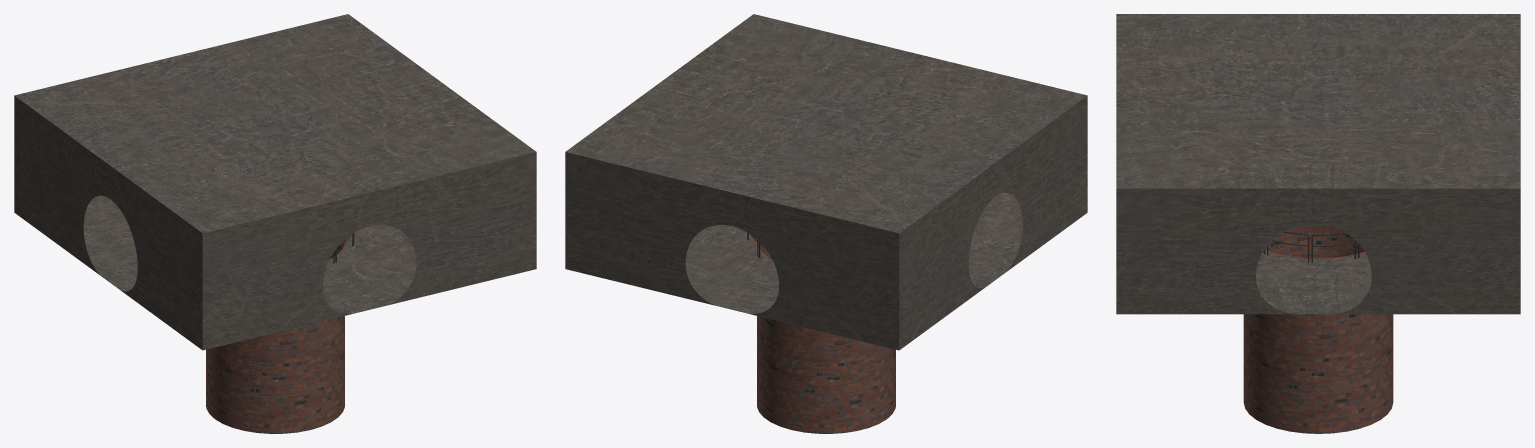
The model's file is kanal_krizisce.obj.
3 renders of one model, left to right at view 1: azimuth 30°, elevation 25°; view 2: azimuth 150°, elevation 25°; view 3: azimuth 270°, elevation 25°, orthographic. The views are drawn at different scales.
Visible parts, largest first — view 1: Cube_Cube.001, Cube.001_Cube.000; view 2: Cube_Cube.001, Cube.001_Cube.000; view 3: Cube_Cube.001, Cube.001_Cube.000, Cylinder.
Boxes of the visible parts, box(x1,y1,x2,y2) form: Cube_Cube.001: box(14, 14, 536, 350); Cube.001_Cube.000: box(206, 237, 348, 433); Cube_Cube.001: box(565, 14, 1087, 350); Cube.001_Cube.000: box(753, 237, 895, 433); Cube_Cube.001: box(1116, 14, 1520, 314); Cube.001_Cube.000: box(1243, 224, 1393, 433); Cylinder: box(1263, 231, 1359, 262).
Bounding box in the file's own units: 14.26 × 11.46 × 13.94.
